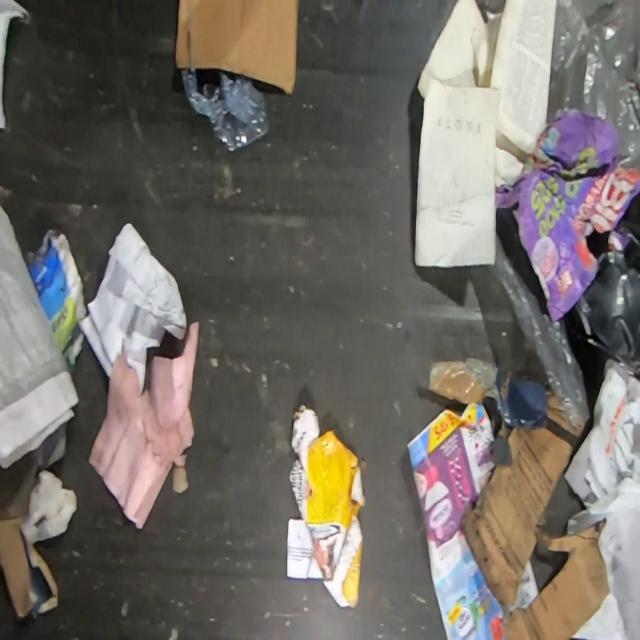cardboard: (462, 427, 610, 639), (286, 403, 366, 608), (425, 356, 585, 439), (174, 0, 298, 97), (0, 516, 59, 622)
rigid_plastic: (574, 218, 640, 382), (181, 68, 271, 152)
soft_plastic: (495, 213, 609, 430), (547, 0, 640, 158)
